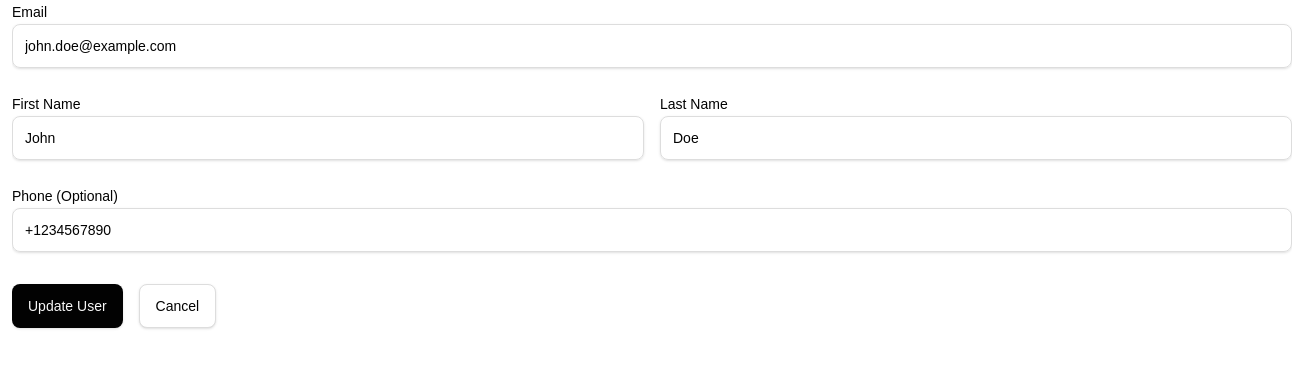
Test: UserEditForm › Form Validation › should show validation error for invalid email
Replace the text in the field labelled "Email" with "notanemail" at (652, 46), box left=12, top=24, right=1292, bottom=68
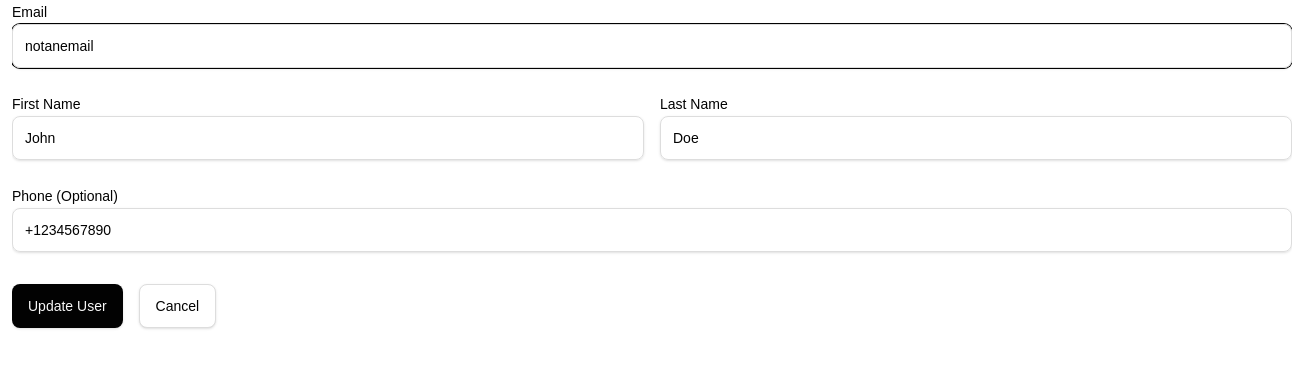
Click the button "Update User" at (67, 306), box left=12, top=284, right=123, bottom=328
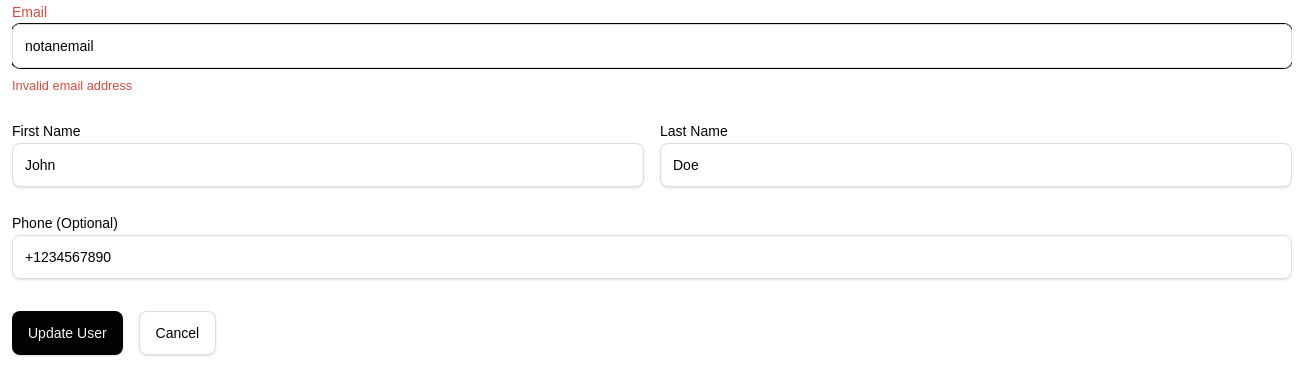
expect the text "Invalid email address" is shown: met, box left=12, top=78, right=132, bottom=93
